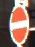No entry: (6, 5, 29, 42)
